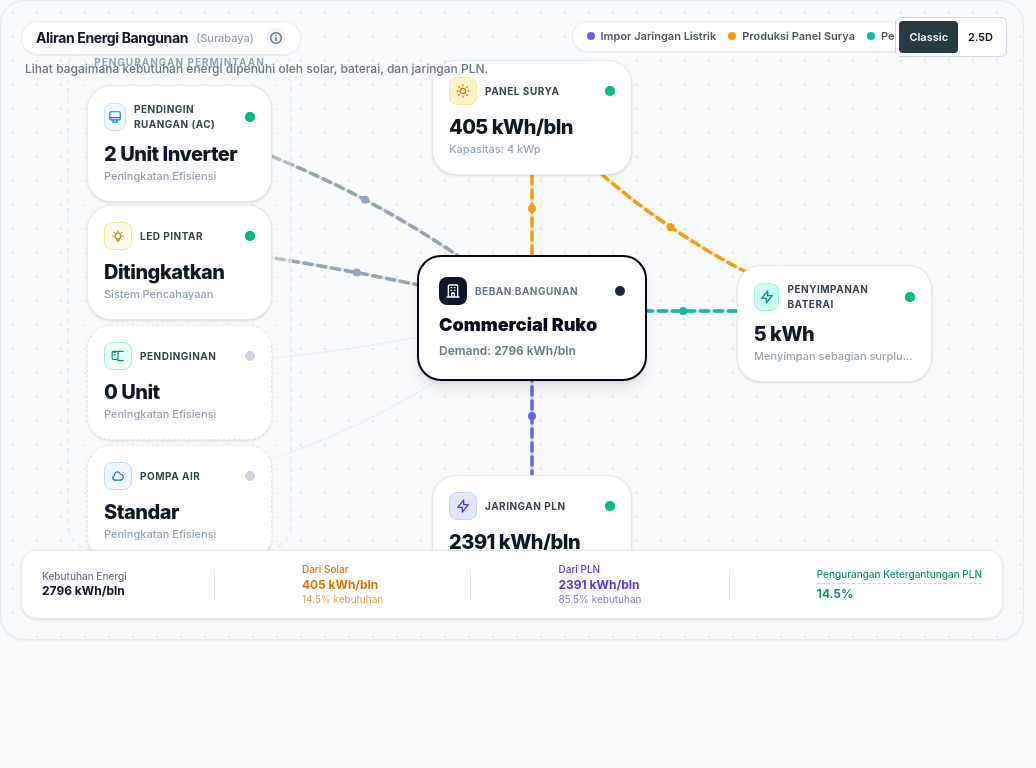
Test: Phase 13: Energy Canvas & Telemetry Mapping › 5. opens telemetry inspector when a node is clicked
Click the text "PANEL SURYA": (522, 91) [485,84,560,98]
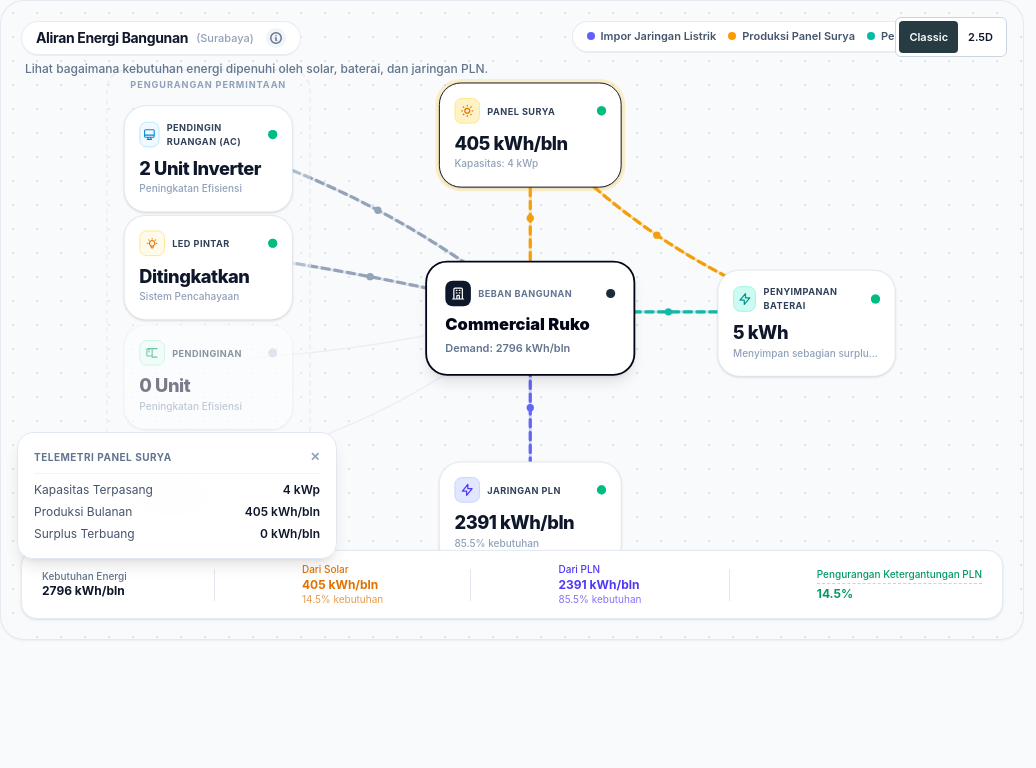
Check: the text "TELEMETRI PANEL SURYA" is shown, box [34,450,172,464]
Check: the text "Kapasitas Terpasang" is shown, box [34,482,153,498]
